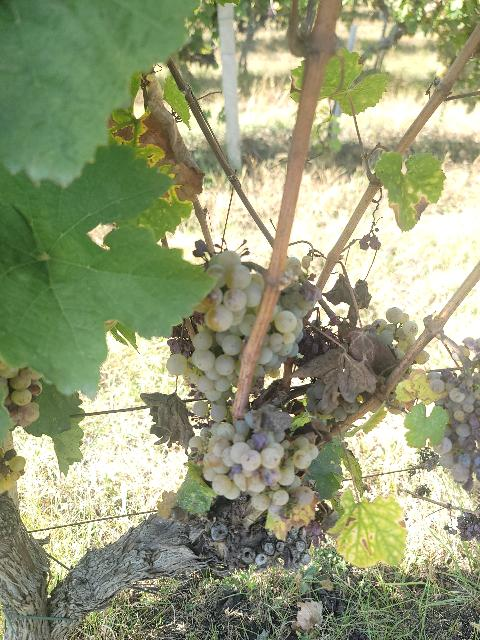grapes: (168, 251, 264, 424), (202, 420, 295, 499), (430, 355, 480, 490)
